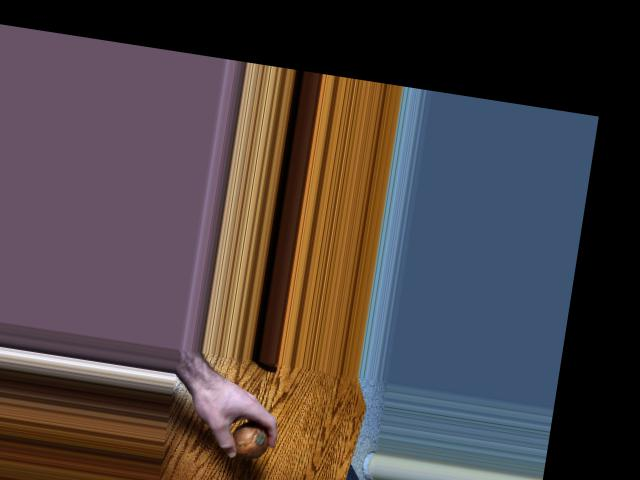onion: (224, 413, 274, 460)
